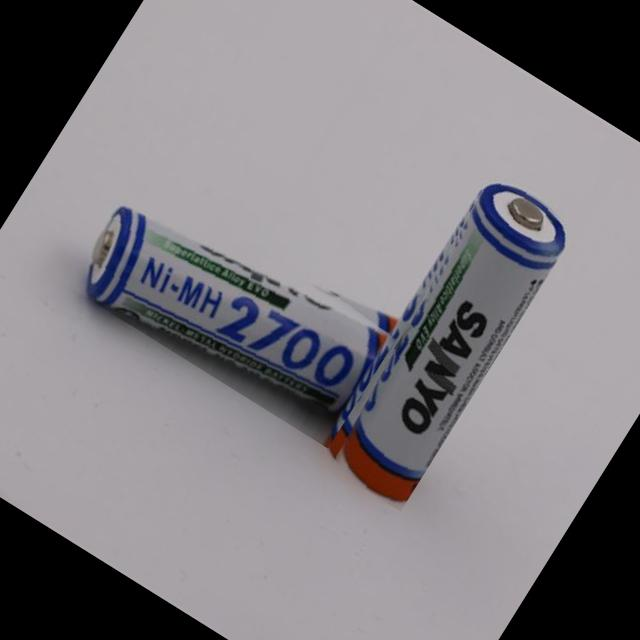Hazard: (59, 154, 407, 449), (312, 166, 581, 512)
